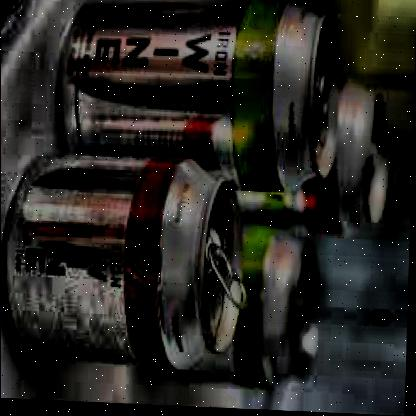Can: (0, 142, 254, 384), (49, 0, 346, 206)
